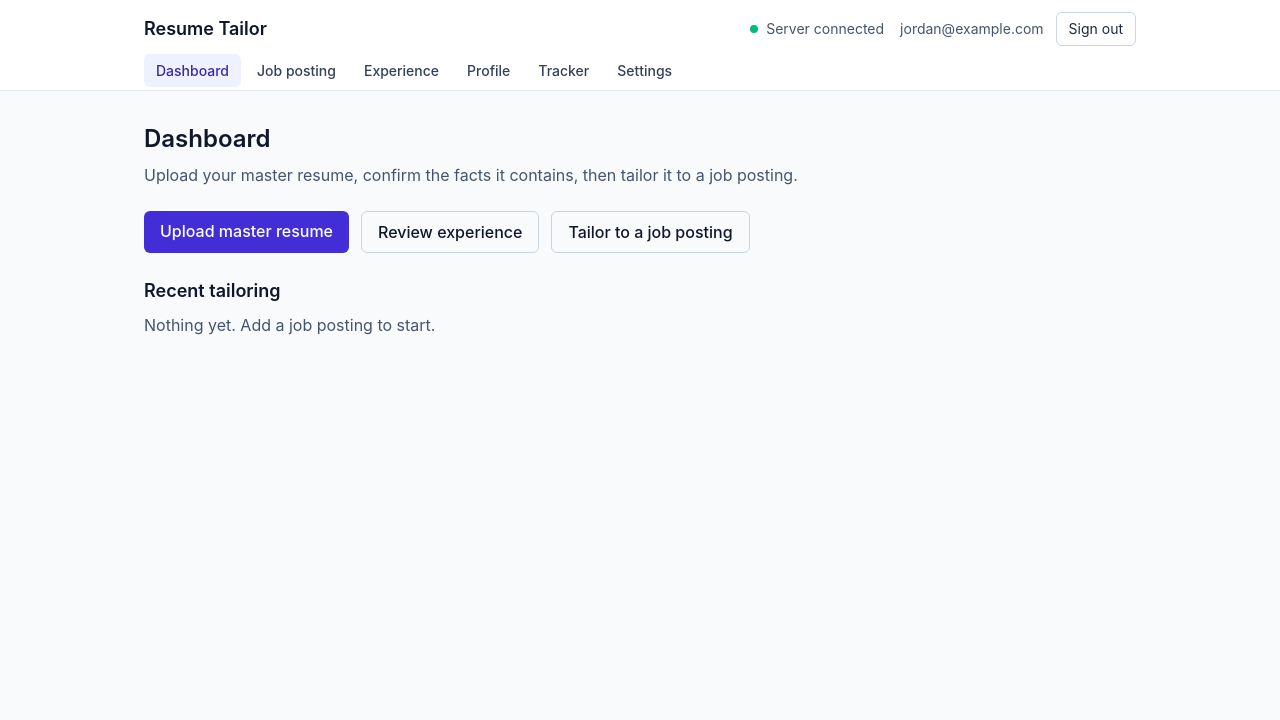
App shell › shows the signed-in user, server status, skip link, and navigation
Expected: the text "Server connected" is shown, [750,19,884,39]
Expected: the text "jordan@example.com" is shown, [900,19,1044,39]
Click the link "Job posting" at {"x": 296, "y": 70}, box [257,62,336,79]
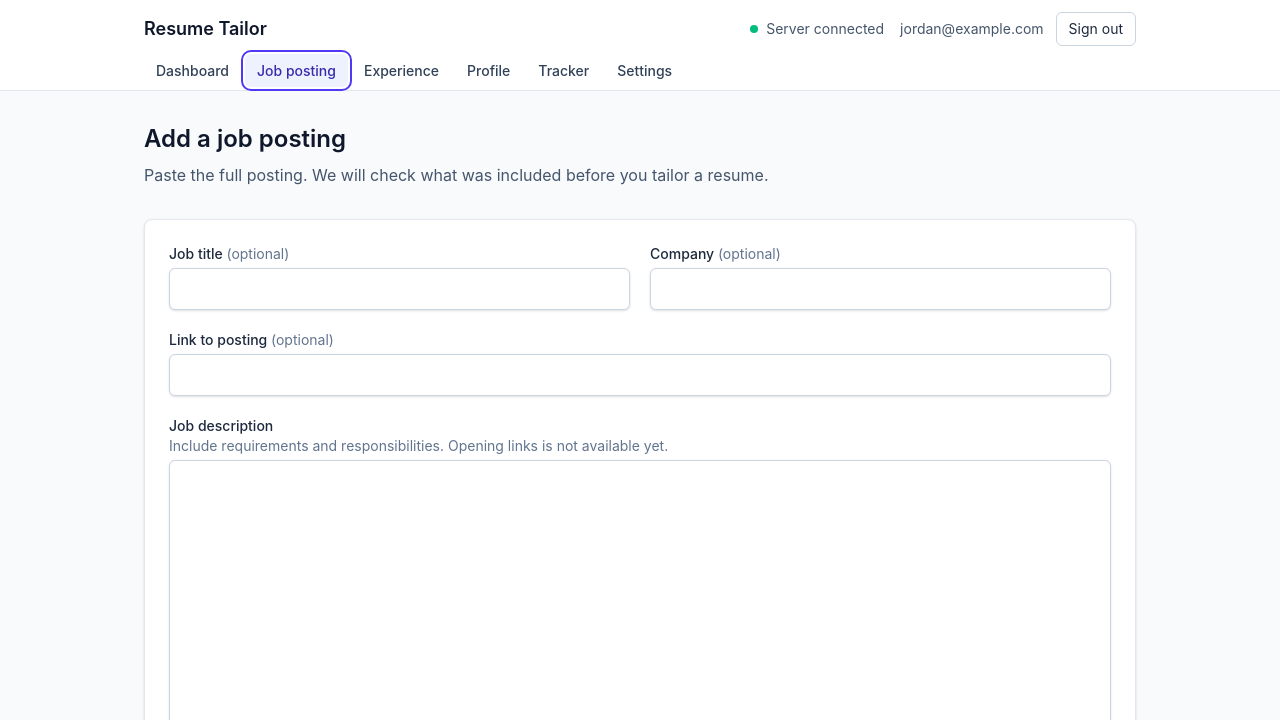
Result: the heading "Add a job posting" is shown at [144,124,346,153]
